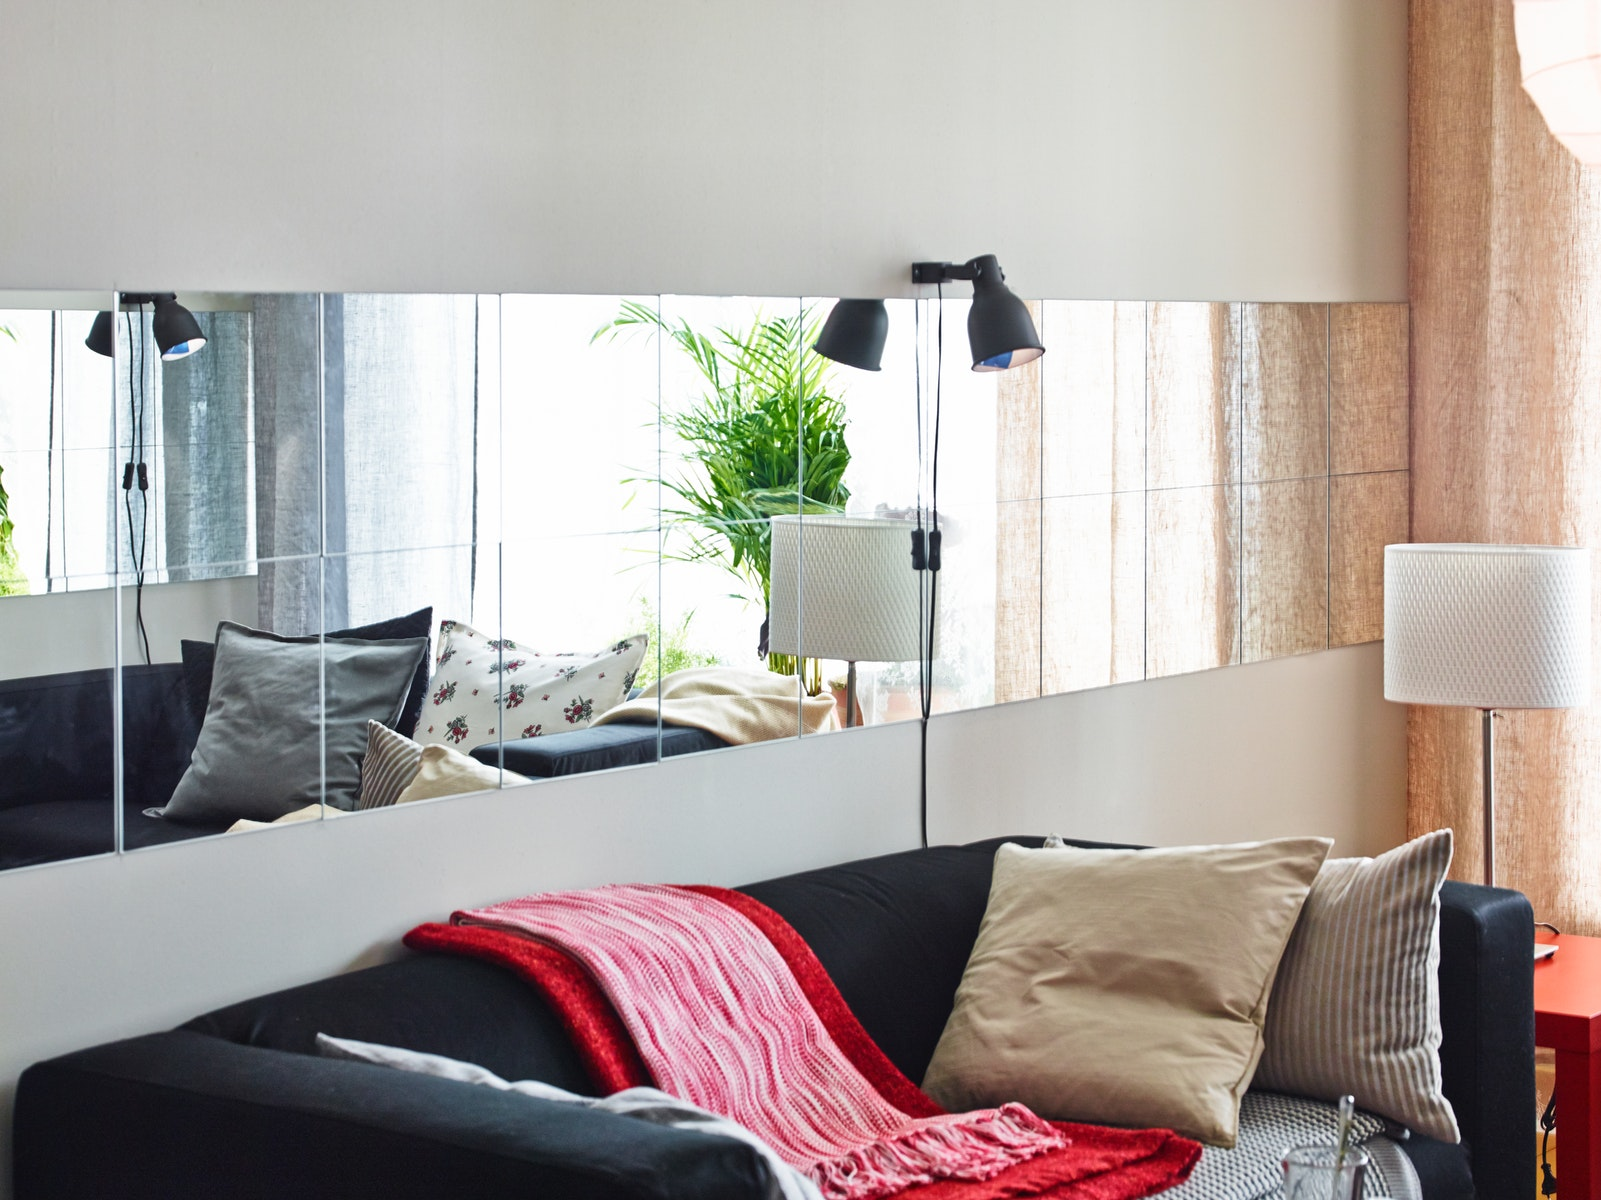Bantal: (911, 836, 1315, 1147), (1256, 821, 1471, 1152)
Sova: (11, 824, 1562, 1200)
lampu: (1373, 531, 1601, 814)
